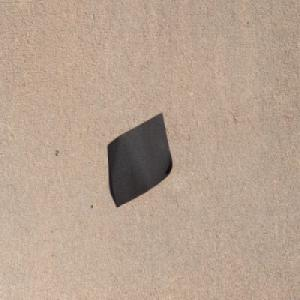PaintChip: (106, 110, 173, 209)
